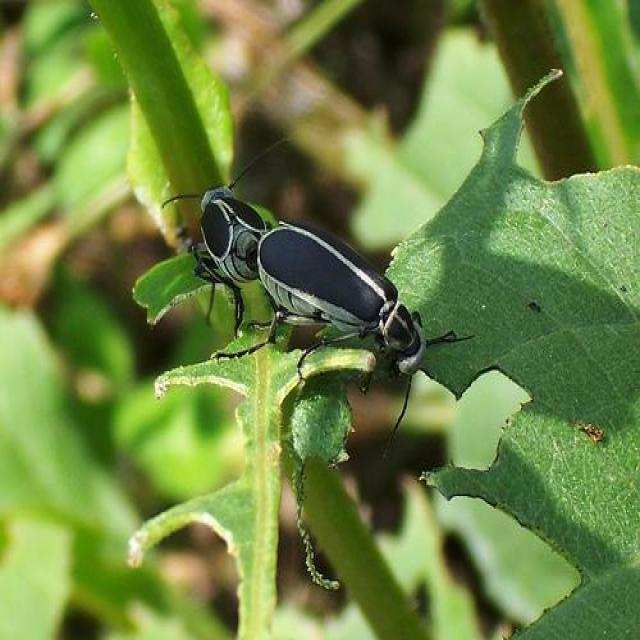BlisterBeetle-Adult-: (254, 210, 464, 412)
